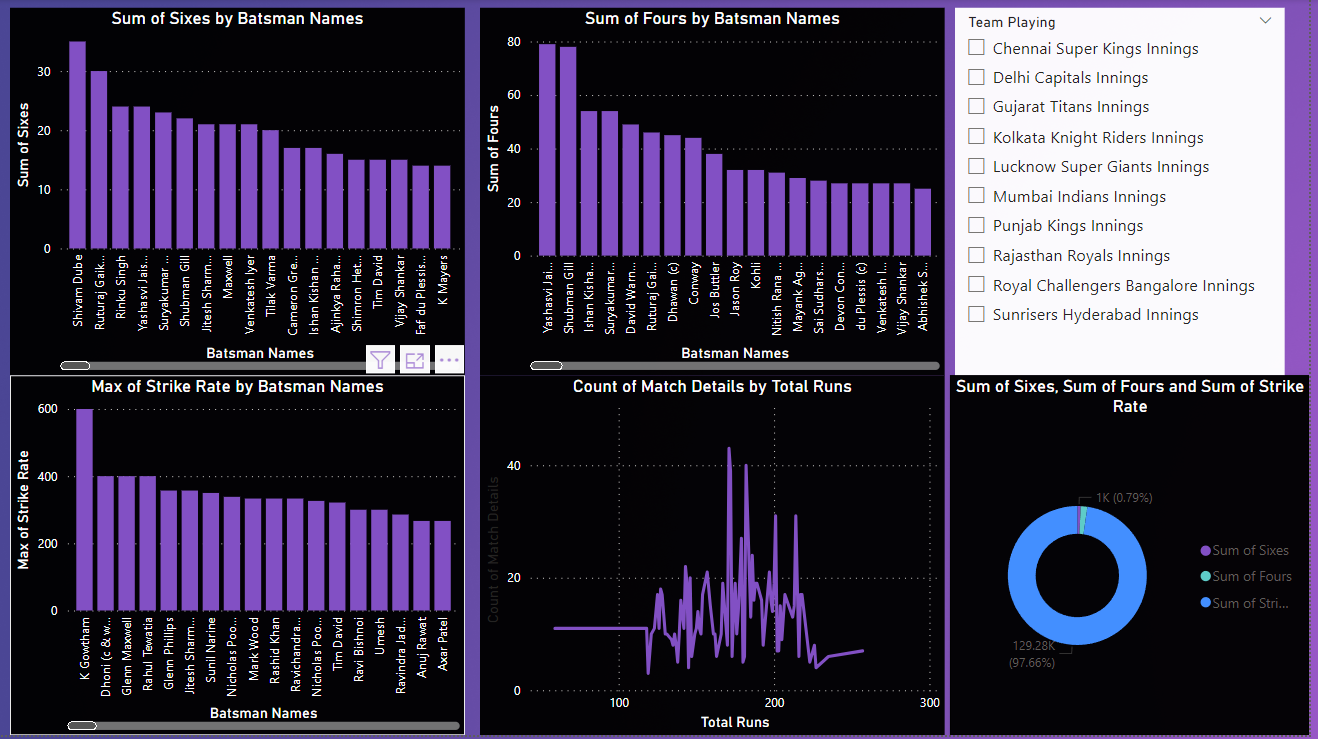

What the dashboard file says about the page in this screenshot:
{"tool":"powerbi","page":{"name":"Batting_summary","canvas":[1280,720],"ordinal":0},"visuals":[{"type":"lineStackedColumnComboChart","fields":{"Category":["batting_summary_2023.Batsman Names"],"Y":["batting_summary_2023.Fours"]},"box":[469.4,8.6,454.7,359.4],"z":0},{"type":"lineStackedColumnComboChart","fields":{"Category":["batting_summary_2023.Batsman Names"],"Y":["batting_summary_2023.Sixes"]},"box":[9.8,8.6,445,359.4],"z":1000},{"type":"lineClusteredColumnComboChart","fields":{"Category":["batting_summary_2023.Batsman Names"],"Y":["batting_summary_2023.Strike Rate"]},"box":[9.8,367.9,445,352.1],"z":2000},{"type":"lineChart","fields":{"Y":["batting_summary_2023.Match Details"],"Category":["batting_summary_2023.Total Runs"]},"box":[469.4,367.9,454.7,352.1],"z":3000},{"type":"donutChart","fields":{"Y":["batting_summary_2023.Sixes","batting_summary_2023.Fours","batting_summary_2023.Strike Rate"]},"box":[929,367.9,350.8,352.1],"z":4000},{"type":"slicer","fields":{"Values":["batting_summary_2023.Team Playing"]},"box":[933.9,8.6,322.7,359.4],"z":5000}]}

Visuals, with their boxes in screenshot pixels (x1, y1, x2, y2), scaled from the page's 1280x720 canvas onto the 1318x739 screenshot:
lineStackedColumnComboChart - batting_summary_2023.Batsman Names x batting_summary_2023.Fours: 483/9/952/378
lineStackedColumnComboChart - batting_summary_2023.Batsman Names x batting_summary_2023.Sixes: 10/9/468/378
lineClusteredColumnComboChart - batting_summary_2023.Batsman Names x batting_summary_2023.Strike Rate: 10/378/468/738
lineChart - batting_summary_2023.Match Details x batting_summary_2023.Total Runs: 483/378/952/738
donutChart - batting_summary_2023.Sixes x batting_summary_2023.Fours: 957/378/1317/738
slicer - batting_summary_2023.Team Playing: 962/9/1294/378
